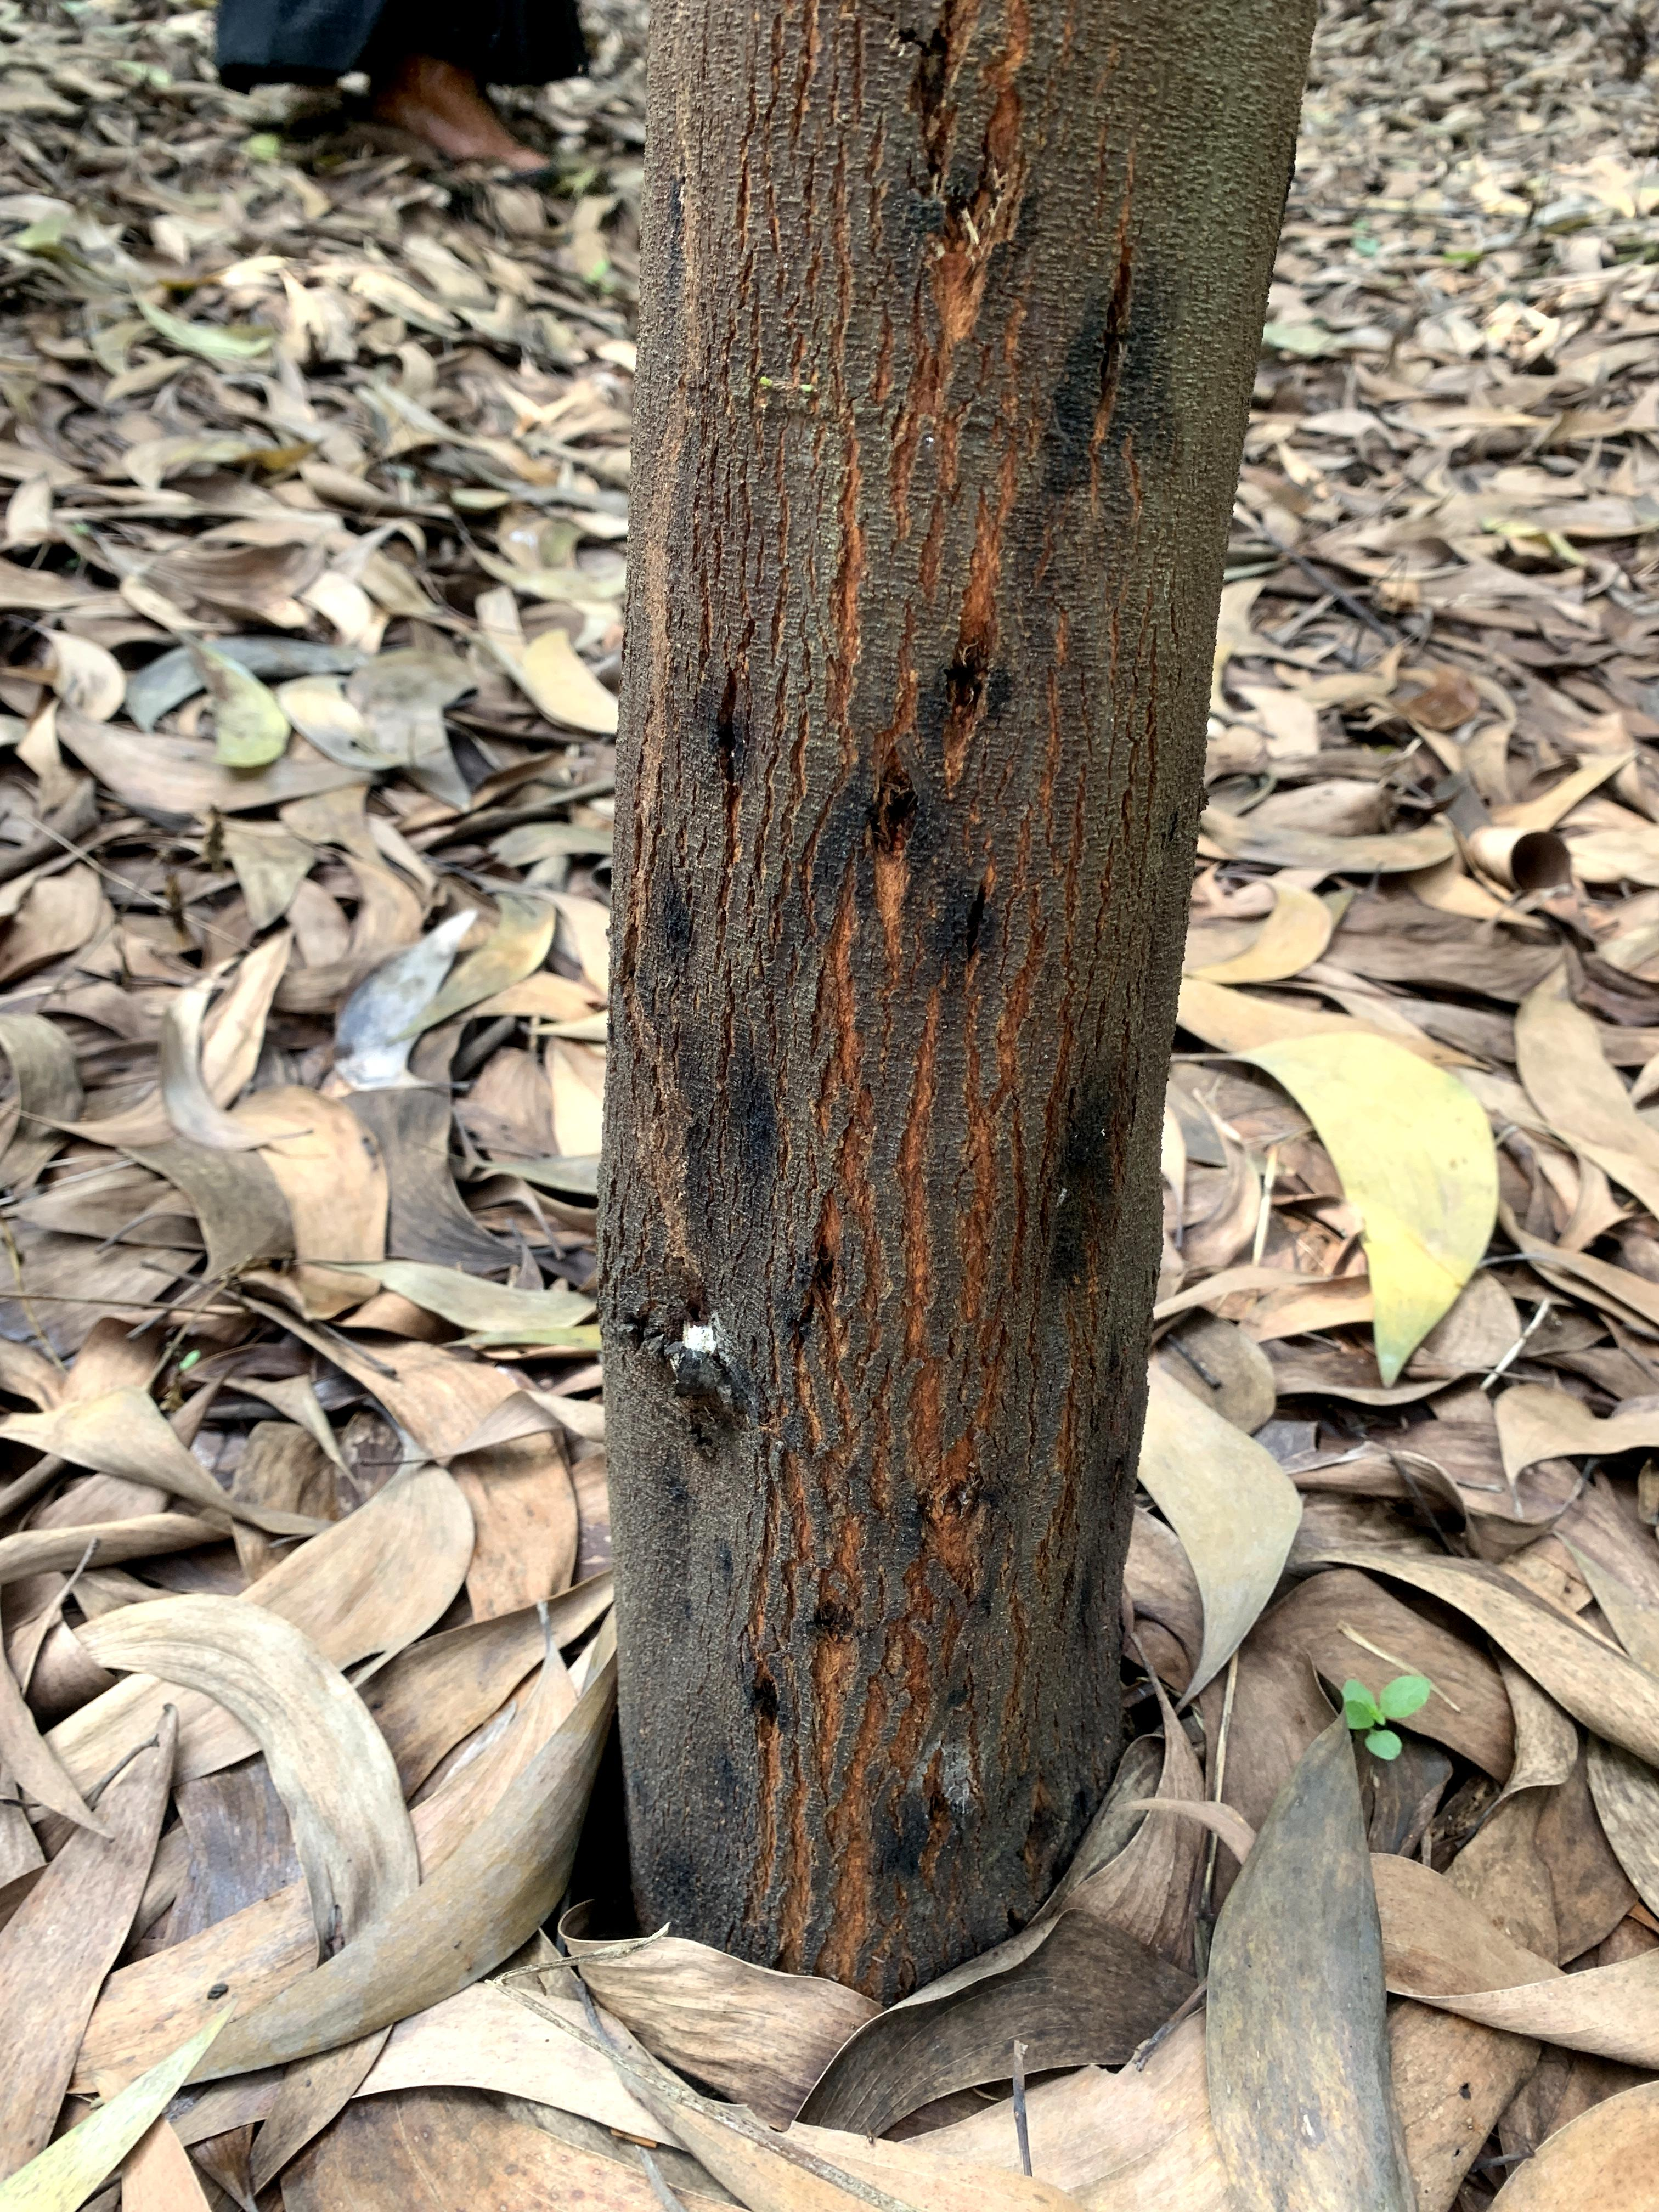Stem Borer: (847, 628, 1042, 957), (1025, 245, 1202, 555), (860, 0, 1017, 252), (1058, 1057, 1124, 1282), (697, 1066, 781, 1190), (691, 674, 756, 790), (878, 1808, 966, 1892), (802, 1563, 873, 1653), (649, 878, 703, 977), (1015, 1782, 1071, 1877), (736, 1668, 789, 1733)
Stem Deformation: (810, 1014, 1011, 1481)
